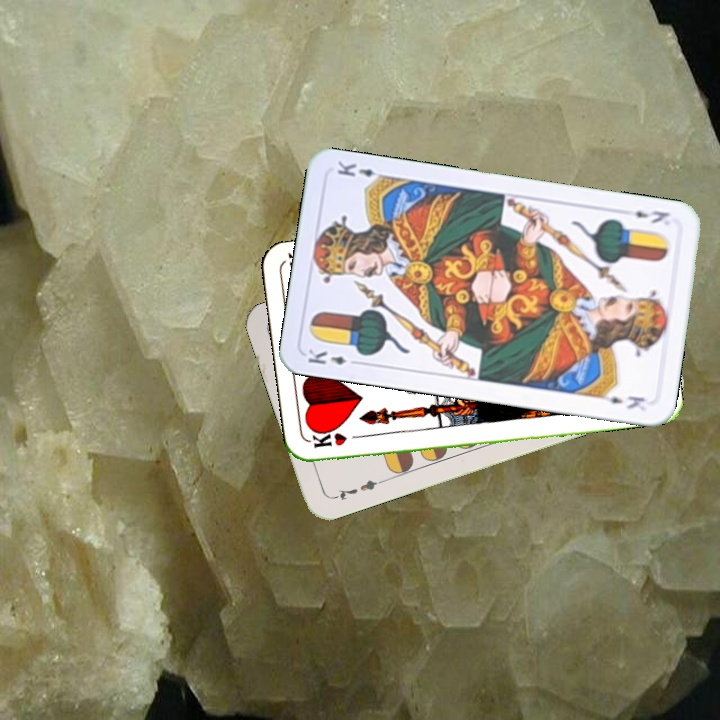E7: (329, 475, 386, 503)
EK: (304, 345, 362, 368), (631, 206, 672, 226)
HK: (309, 429, 369, 451)
